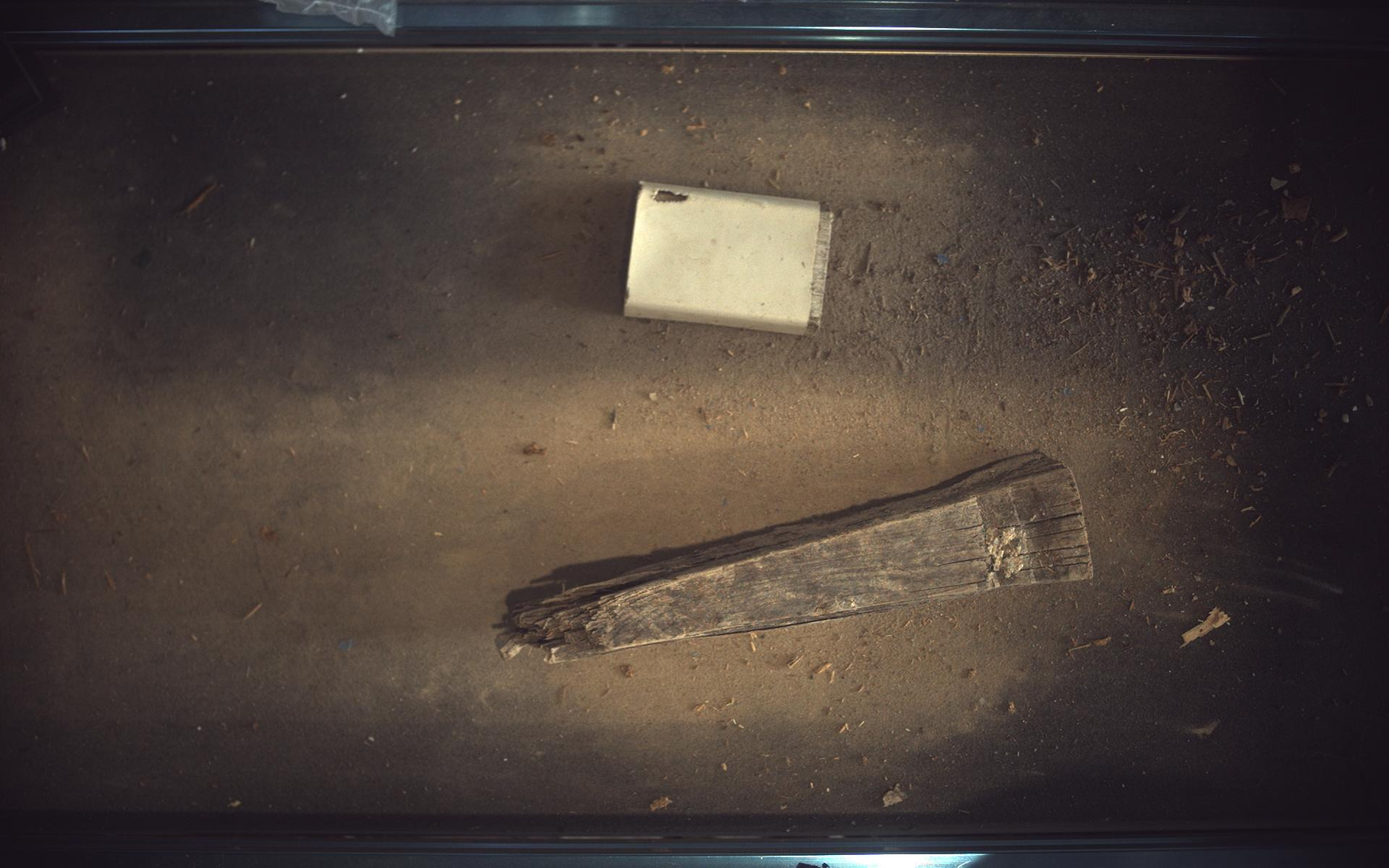wood: (499, 453, 1095, 663), (625, 181, 835, 334)
